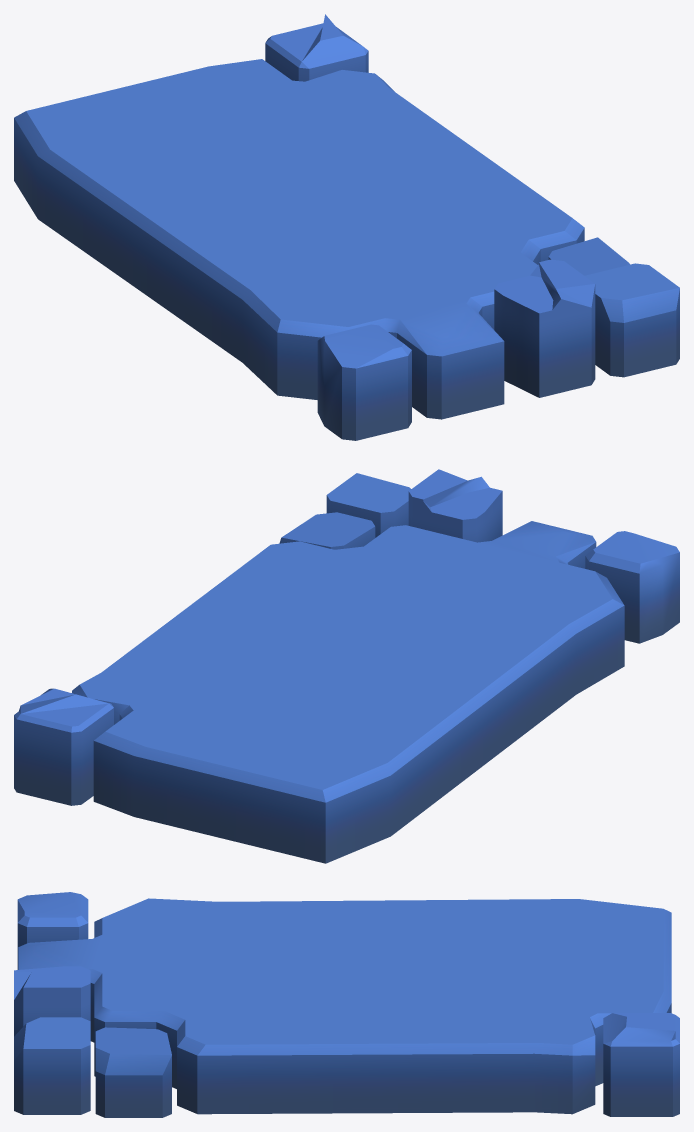
The model's file is Tomb Base 01.fbx.
3 views of the same model, one above another, from view 1: azimuth 30°, elevation 25°; view 2: azimuth 150°, elevation 25°; view 3: azimuth 270°, elevation 25° (orthographic). The views are drawn at different scales.
Parts seen in each view (by area): view 1: Tomb Base 01.001; view 2: Tomb Base 01.001; view 3: Tomb Base 01.001.
Boxes of the visible parts, x1=… form: Tomb Base 01.001: x1=14, y1=14, x2=679, y2=440; Tomb Base 01.001: x1=14, y1=469, x2=679, y2=863; Tomb Base 01.001: x1=14, y1=892, x2=679, y2=1117.
Bounding box in the file's own units: 218 × 57.41 × 390.
